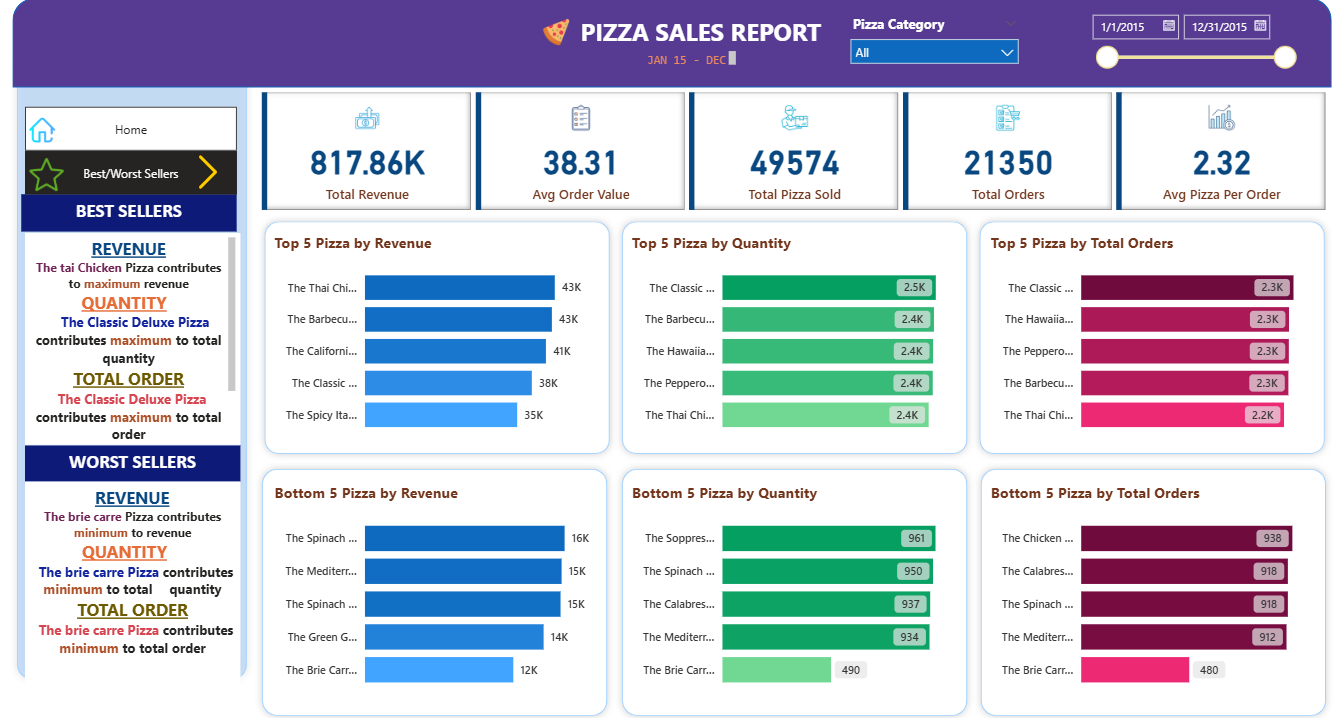

This screenshot's page, from the dashboard's own definition file:
{"tool":"powerbi","page":{"name":"Best/Worst Sellers","canvas":[1500,820],"ordinal":1},"visuals":[{"type":"shape","box":[11.3,46.6,271.8,720.4],"z":0},{"type":"cardVisual","fields":{"Data":["pizza_sales.Total Revenue","pizza_sales.Avg Order Value","pizza_sales.Total Pizza Sold","pizza_sales.Total Orders","pizza_sales.Avg Pizza Per Order"]},"box":[286.2,99.7,1198,141.5],"z":1000},{"type":"shape","box":[14.5,0,1469.8,99.7],"z":2000},{"type":"textbox","box":[603,14.5,355.4,48.2],"z":3000},{"type":"textbox","box":[715.6,54.7,109.3,28.9],"z":4000},{"type":"image","box":[582.1,17.7,75.6,40.2],"z":5000},{"type":"shape","box":[286.2,241.2,400.4,275],"z":6000},{"type":"textbox","box":[27.3,262.1,239.6,236.4],"z":7000},{"type":"textbox","box":[24.1,218.7,239.6,41.8],"z":8000},{"type":"textbox","box":[27.3,498.5,239.6,40.2],"z":9000},{"type":"textbox","box":[27.3,538.7,239.6,268.5],"z":10000},{"type":"slicer","fields":{"Values":["pizza_sales.pizza_category"]},"box":[937.5,14.5,207.4,62.7],"z":11000},{"type":"slicer","fields":{"Values":["pizza_sales.order_date"]},"box":[1204.4,8,247.6,91.7],"z":12000},{"type":"shape","box":[1083.8,241.2,400.4,275],"z":13000},{"type":"shape","box":[685,241.2,400.4,275],"z":14000},{"type":"shape","box":[284.6,516.2,400.4,291.1],"z":15000},{"type":"shape","box":[685,516.2,400.4,291.1],"z":16000},{"type":"shape","box":[1085.4,516.2,400.4,291.1],"z":17000},{"type":"barChart","title":"Top 5 Pizza by Revenue","fields":{"Category":["pizza_sales.pizza_name"],"Y":["pizza_sales.Total Revenue"]},"box":[300.7,260.5,373.1,238],"z":18000},{"type":"barChart","title":"Bottom 5 Pizza by Revenue","fields":{"Category":["pizza_sales.pizza_name"],"Y":["pizza_sales.Total Revenue"]},"box":[300.7,538.7,373.1,244.4],"z":19000},{"type":"barChart","title":"Top 5 Pizza by Quantity","fields":{"Category":["pizza_sales.pizza_name"],"Y":["pizza_sales.Total Pizza Sold"]},"box":[699.5,260.5,373.1,238],"z":20000},{"type":"barChart","title":"Bottom 5 Pizza by Quantity","fields":{"Category":["pizza_sales.pizza_name"],"Y":["pizza_sales.Total Pizza Sold"]},"box":[699.5,538.7,373.1,244.4],"z":21000},{"type":"barChart","title":"Top 5 Pizza by Total Orders","fields":{"Category":["pizza_sales.pizza_name"],"Y":["pizza_sales.Total Orders"]},"box":[1098.3,260.5,373.1,238],"z":22000},{"type":"barChart","title":"Bottom 5 Pizza by Total Orders","fields":{"Category":["pizza_sales.pizza_name"],"Y":["pizza_sales.Total Orders"]},"box":[1098.3,538.7,373.1,244.4],"z":23000},{"type":"pageNavigator","box":[27.3,170.5,236.4,49.9],"z":24000},{"type":"pageNavigator","box":[27.3,120.6,236.4,49.9],"z":25000},{"type":"image","box":[201,170.5,62.7,48.2],"z":26000},{"type":"image","box":[27.3,123.8,38.6,46.6],"z":27000},{"type":"image","box":[27.3,172.1,48.2,48.2],"z":28000}]}

Visuals, with their boxes in screenshot pixels (x1, y1, x2, y2), scaled from the page's 1500x820 canvas onto the 1342x718 screenshot:
shape: <box>10,41,253,672</box>
cardVisual - pizza_sales.Total Revenue x pizza_sales.Avg Order Value: <box>256,87,1328,211</box>
shape: <box>13,0,1328,87</box>
textbox: <box>539,13,857,55</box>
textbox: <box>640,48,738,73</box>
image: <box>521,15,588,51</box>
shape: <box>256,211,614,452</box>
textbox: <box>24,229,239,436</box>
textbox: <box>22,191,236,228</box>
textbox: <box>24,436,239,472</box>
textbox: <box>24,472,239,707</box>
slicer - pizza_sales.pizza_category: <box>839,13,1024,68</box>
slicer - pizza_sales.order_date: <box>1078,7,1299,87</box>
shape: <box>970,211,1328,452</box>
shape: <box>613,211,971,452</box>
shape: <box>255,452,613,707</box>
shape: <box>613,452,971,707</box>
shape: <box>971,452,1329,707</box>
"Top 5 Pizza by Revenue" barChart: <box>269,228,603,436</box>
"Bottom 5 Pizza by Revenue" barChart: <box>269,472,603,686</box>
"Top 5 Pizza by Quantity" barChart: <box>626,228,960,436</box>
"Bottom 5 Pizza by Quantity" barChart: <box>626,472,960,686</box>
"Top 5 Pizza by Total Orders" barChart: <box>983,228,1316,436</box>
"Bottom 5 Pizza by Total Orders" barChart: <box>983,472,1316,686</box>
pageNavigator: <box>24,149,236,193</box>
pageNavigator: <box>24,106,236,149</box>
image: <box>180,149,236,191</box>
image: <box>24,108,59,149</box>
image: <box>24,151,68,193</box>
